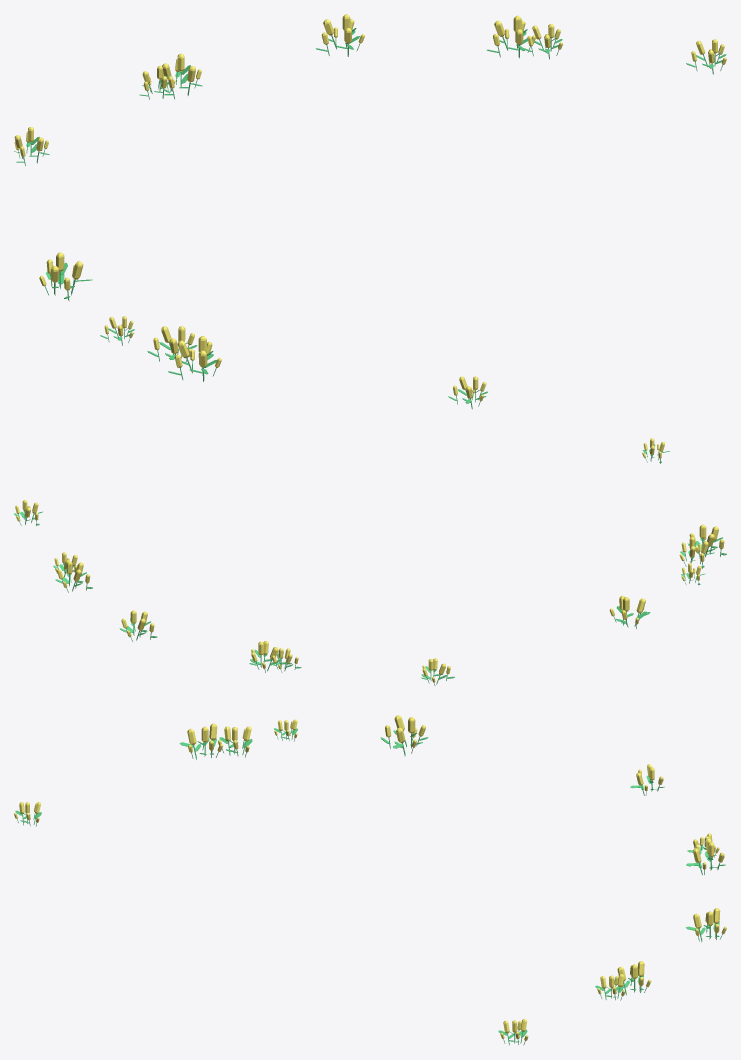
File: flower_all 1.fbx
3 views of the same model, one above another, from view 1: azimuth 30°, elevation 25°; view 2: azimuth 150°, elevation 25°; view 3: azimuth 270°, elevation 25° (orthographic). The views are drawn at different scales.
Parts seen in each view (by area): view 1: pCube10; view 2: pCube10; view 3: pCube10.
Boxes of the visible parts, x1,y1,x2,y2 form: pCube10: (14, 14, 726, 409); pCube10: (14, 438, 726, 685); pCube10: (14, 715, 726, 1045).
Bounding box in the file's own units: 6464 × 344 × 6174.
